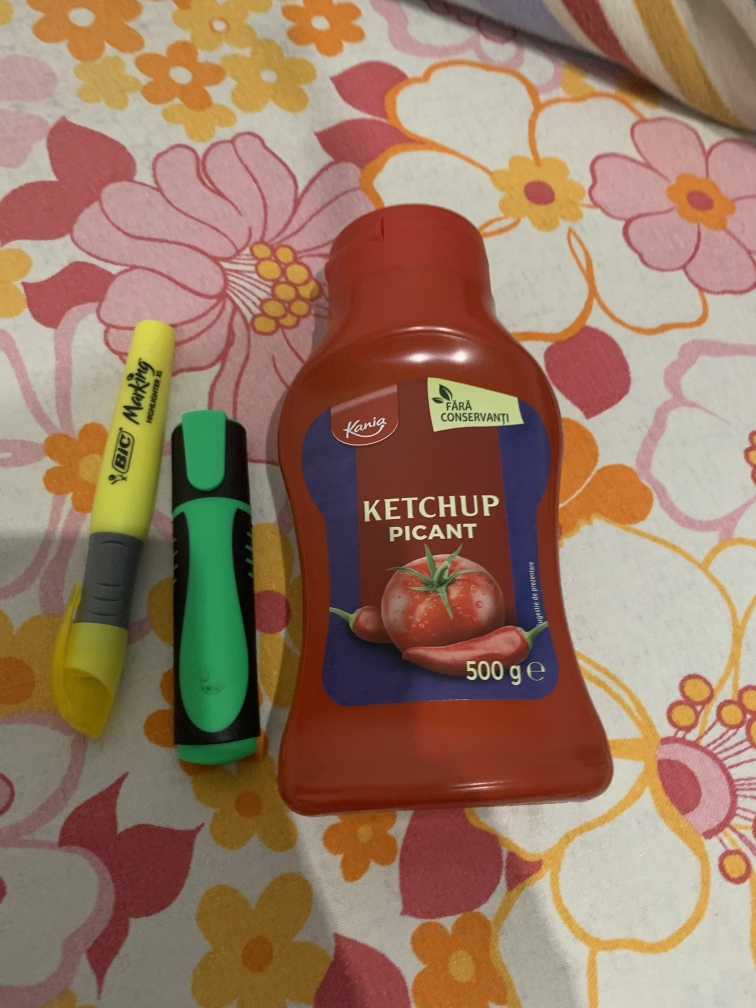ketchup: (263, 199, 621, 820)
